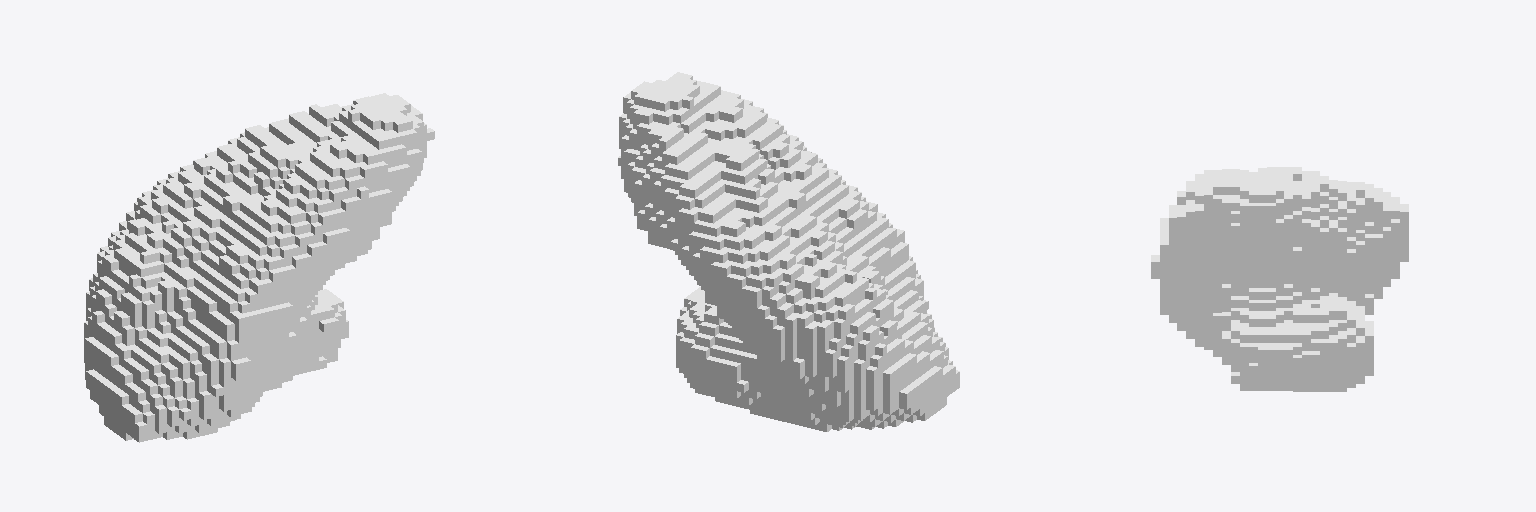
The model's file is rock-04.obj.
3 views of the same model, side by side, from view 1: azimuth 30°, elevation 25°; view 2: azimuth 150°, elevation 25°; view 3: azimuth 270°, elevation 25° (orthographic).
Bounding box in the file's own units: 40 × 32 × 29.